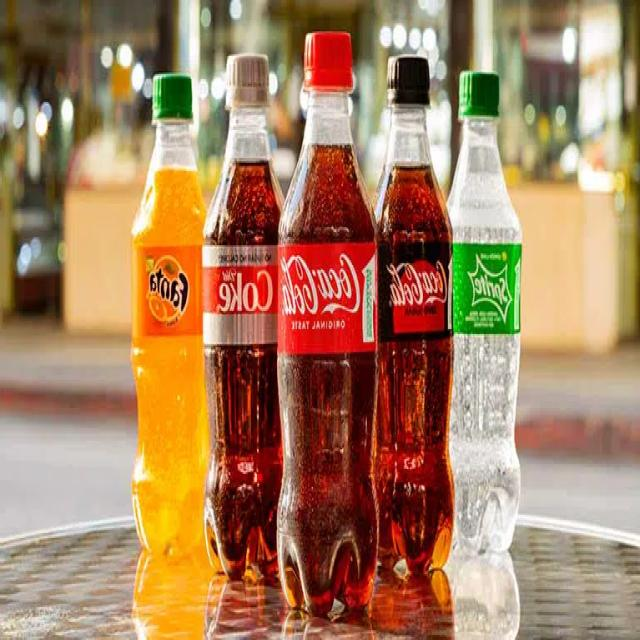plastic: (279, 24, 377, 612), (372, 48, 452, 577), (204, 51, 280, 581), (131, 66, 205, 560), (449, 65, 521, 552)
